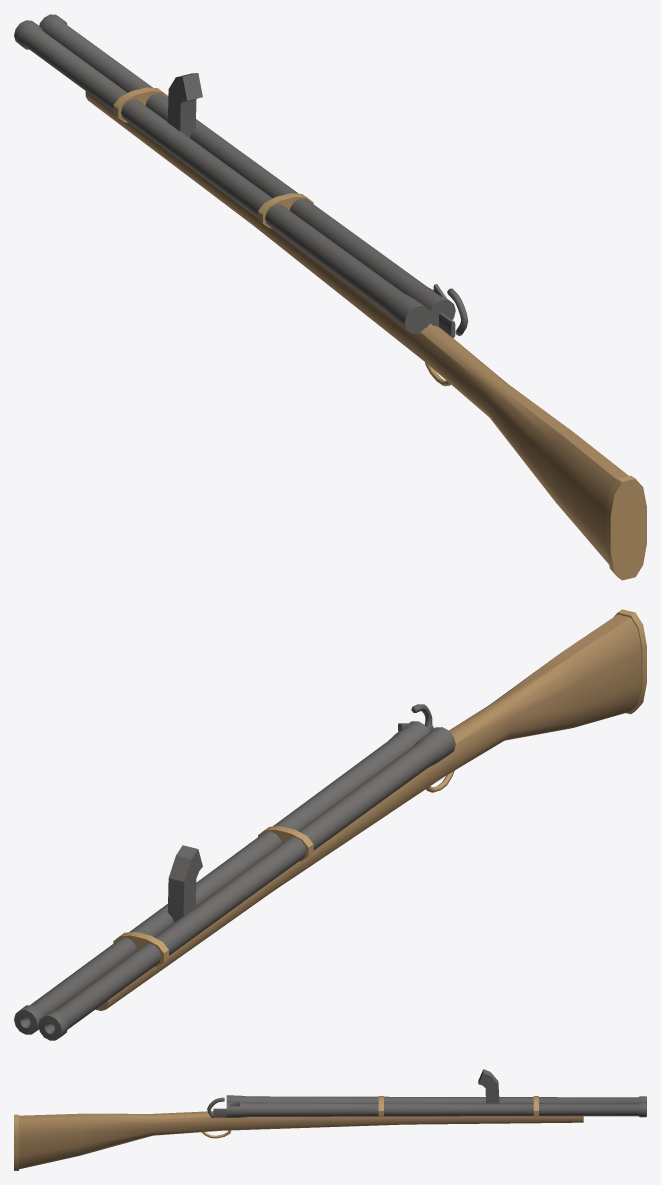
Rendered from double-hackbut.glb.
3 renders of one model, top to bottom at view 1: azimuth 30°, elevation 25°; view 2: azimuth 150°, elevation 25°; view 3: azimuth 270°, elevation 25°, orthographic. The views are drawn at different scales.
Parts seen in each view (by area): view 1: double-hackbut; view 2: double-hackbut; view 3: double-hackbut.
Part boxes in pixels (box(x1,y1,x2,y2)): double-hackbut: box(14, 14, 646, 580); double-hackbut: box(14, 609, 646, 1040); double-hackbut: box(14, 1069, 646, 1170).
Bounding box in the file's own units: 0.143 × 0.4894 × 2.86.
